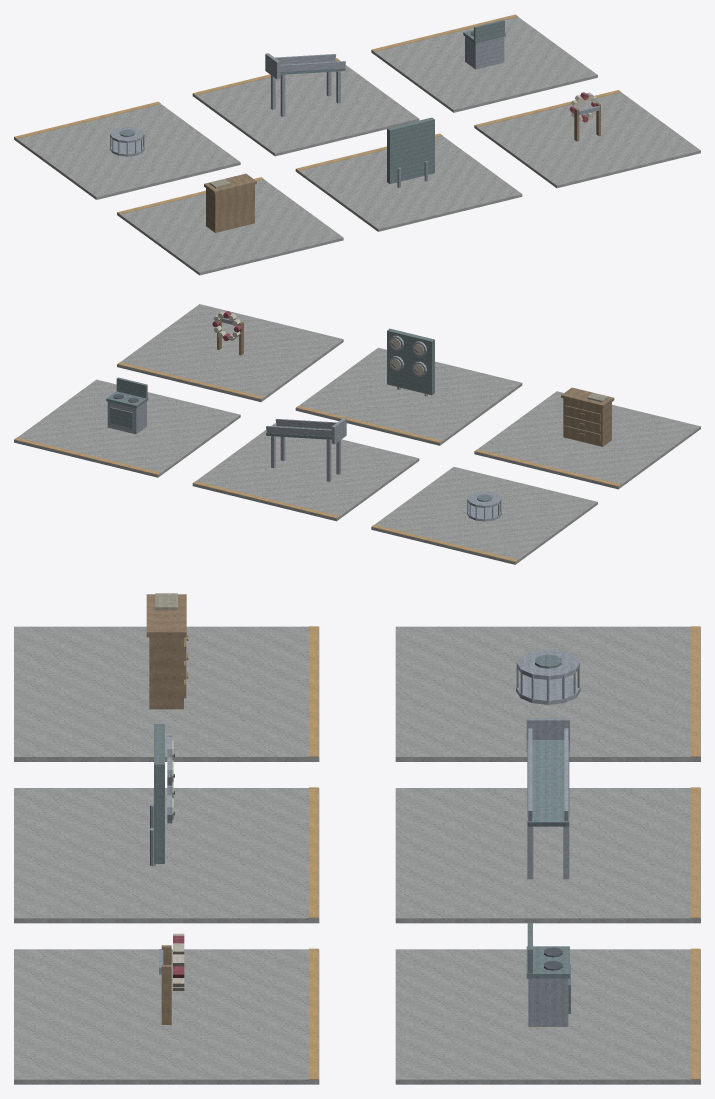
Rendered from level_blockout_kit_wld_15_p06.glb.
3 views of the same model, one above another, from view 1: azimuth 30°, elevation 25°; view 2: azimuth 150°, elevation 25°; view 3: azimuth 270°, elevation 25° (orthographic). The views are drawn at different scales.
Parts seen in each view (by area): view 1: level_blockout_kit_wld_15_p06; view 2: level_blockout_kit_wld_15_p06; view 3: level_blockout_kit_wld_15_p06.
Part boxes in pixels (x1,y1,x2,y2): level_blockout_kit_wld_15_p06: (14,14,700,275); level_blockout_kit_wld_15_p06: (14,304,700,564); level_blockout_kit_wld_15_p06: (14,593,700,1084).
Bounding box in the file's own units: 19.65 × 2.3 × 12.6.
Materials: 10 (10 with a texture image).
